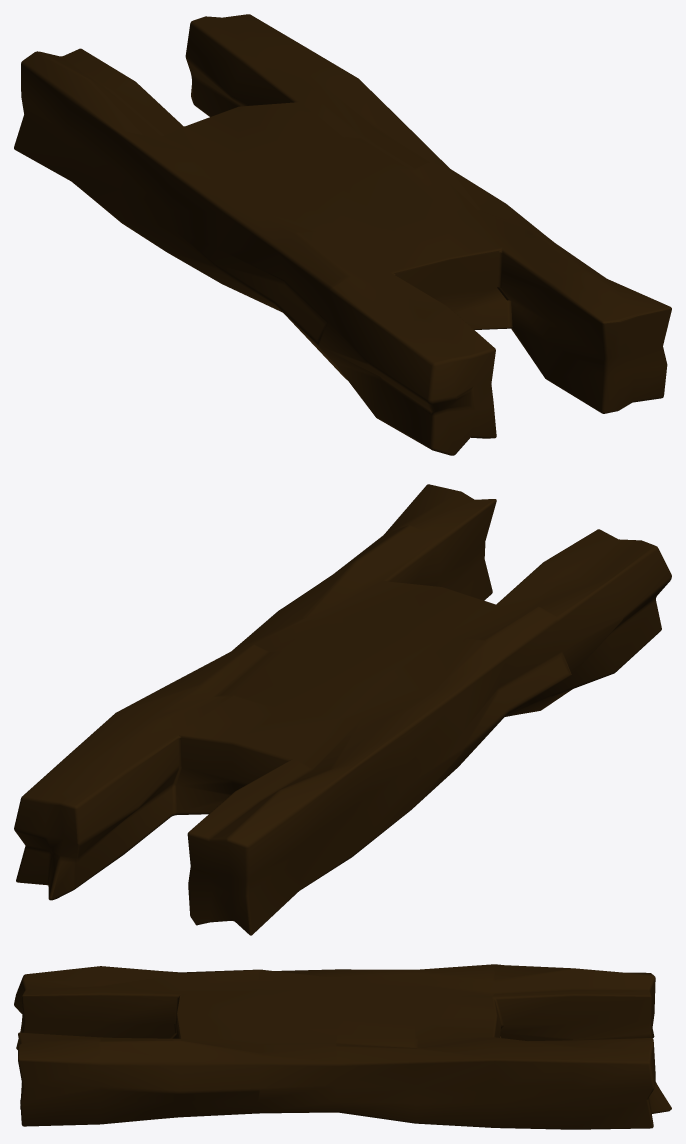
File: Rocks Stairs.fbx
The picture shows the model from 3 angles, top to bottom: view 1: azimuth 30°, elevation 25°; view 2: azimuth 150°, elevation 25°; view 3: azimuth 270°, elevation 25°; orthographic projection. The views are drawn at different scales.
Parts seen in each view (by area): view 1: rocks to underground.002; view 2: rocks to underground.002; view 3: rocks to underground.002.
Part boxes in pixels (x1,y1,x2,y2): rocks to underground.002: (14,14,671,455); rocks to underground.002: (14,484,671,935); rocks to underground.002: (14,964,671,1129).
Bounding box in the file's own units: 990 × 2880 × 420.
